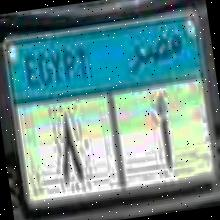8: (53, 108, 88, 190)
alif: (150, 92, 179, 172)
